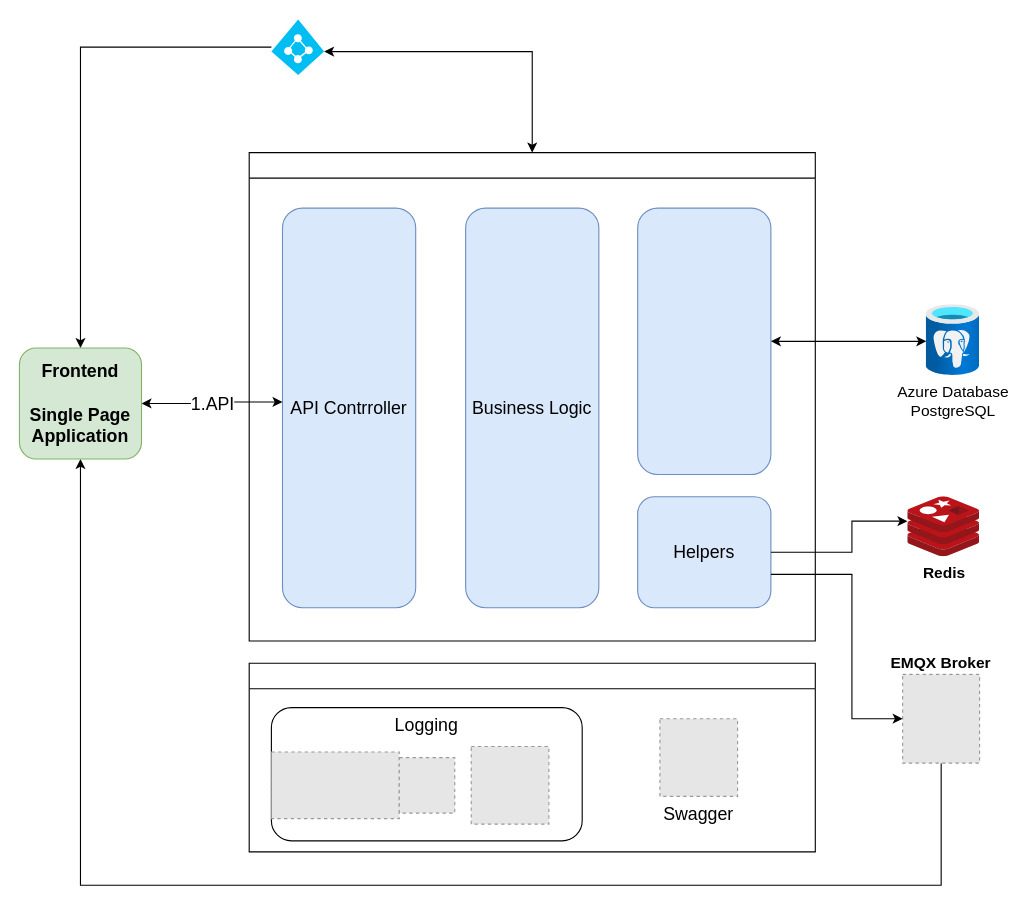
The diagram is 1028 pixels wide and 914 high, and some of its shapes have lost their labels. Grey dashed boxes stand in for pictures. The shapes that lost their labels are listed below. From the top down, each one's box as (x1, y1, x2, y2) in pixels, then its label:
(271, 19, 324, 74): Identity Service (Authen, Author)
(637, 207, 771, 475): Repository Layer
(248, 152, 815, 641): .NET Core API server
(248, 662, 815, 852): Support Tools
